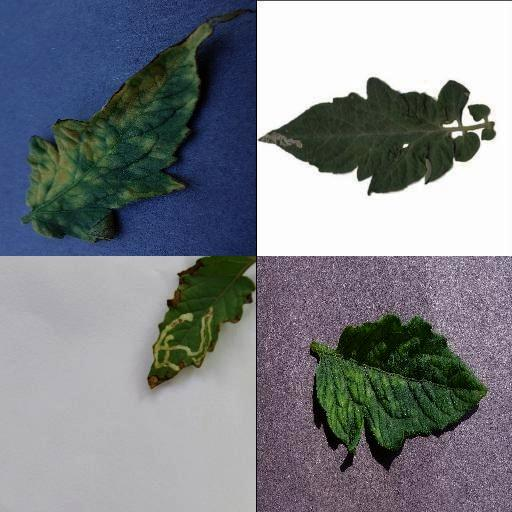Leaf Miner: (257, 73, 456, 195), (146, 256, 256, 391)
Leaf Mold: (29, 19, 215, 243)
Mosaic Virus: (314, 316, 488, 454)
